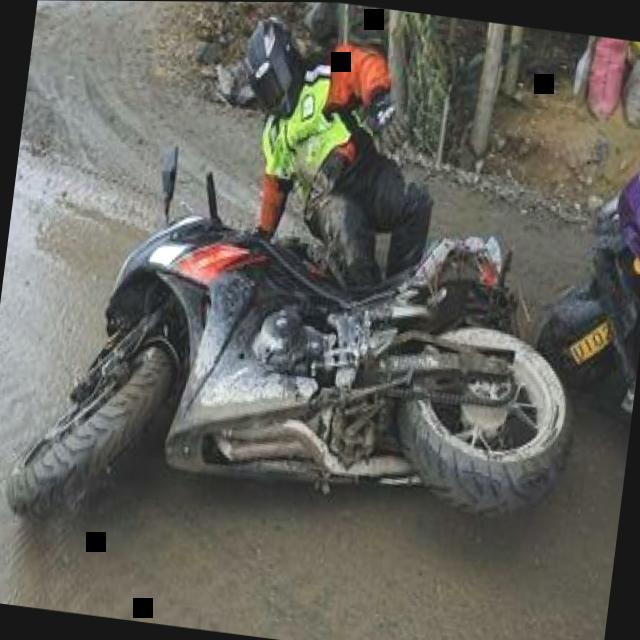Fall-Detected: (197, 1, 476, 320)
